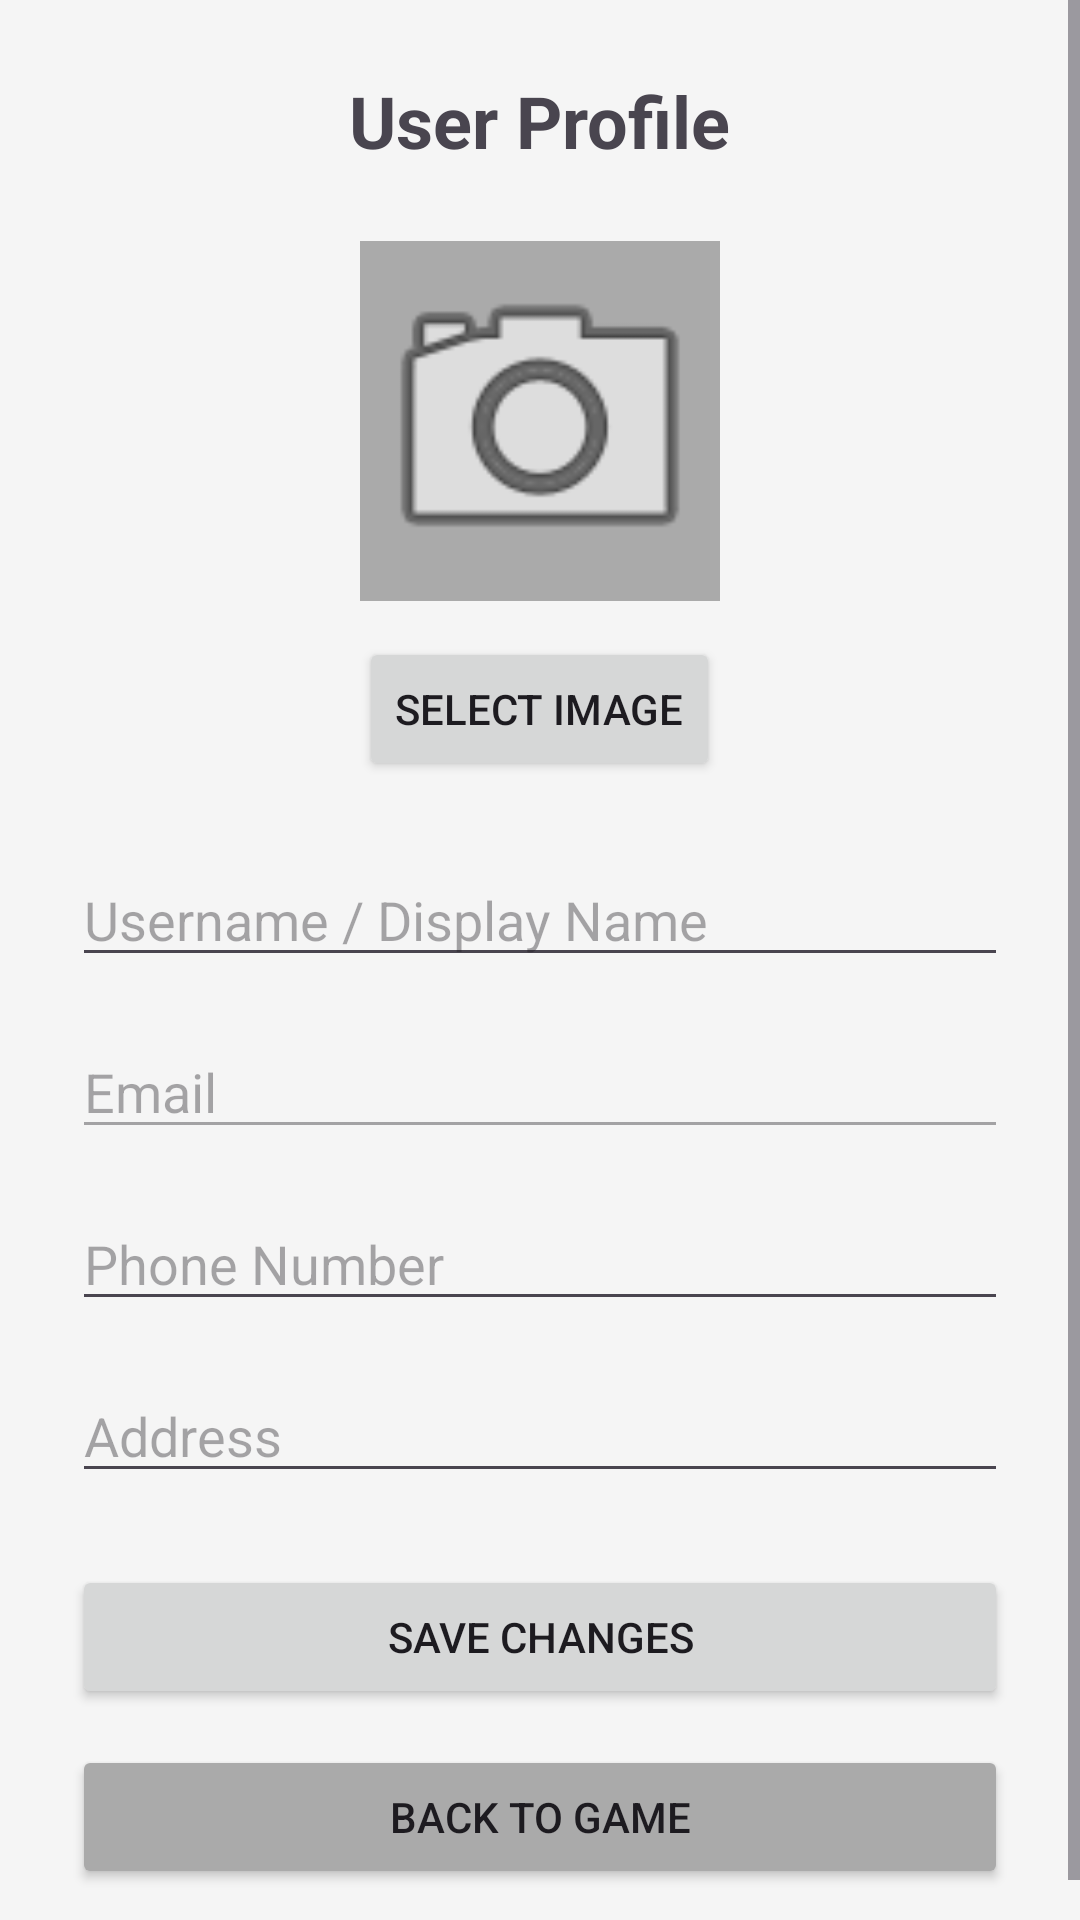

Where icons sit on this 1080 x 1920 app screen, as [left=x1, top=y1, right=x2, bottom=y2]:
camera: [left=360, top=241, right=720, bottom=601]
